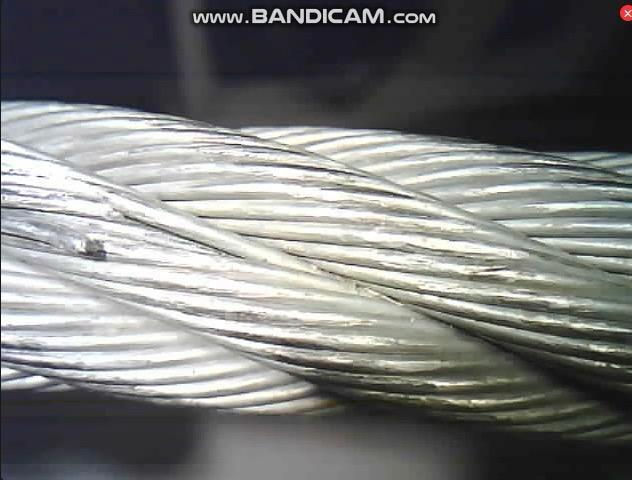break: (53, 184, 138, 263)
